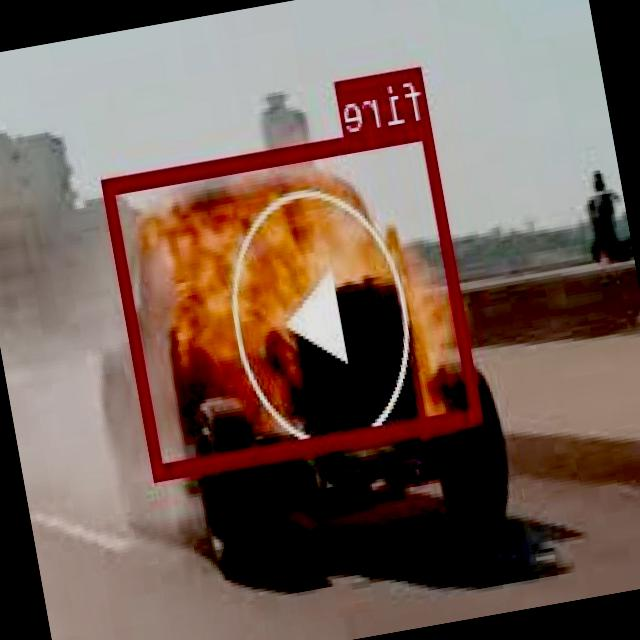fire: (104, 119, 483, 478)
